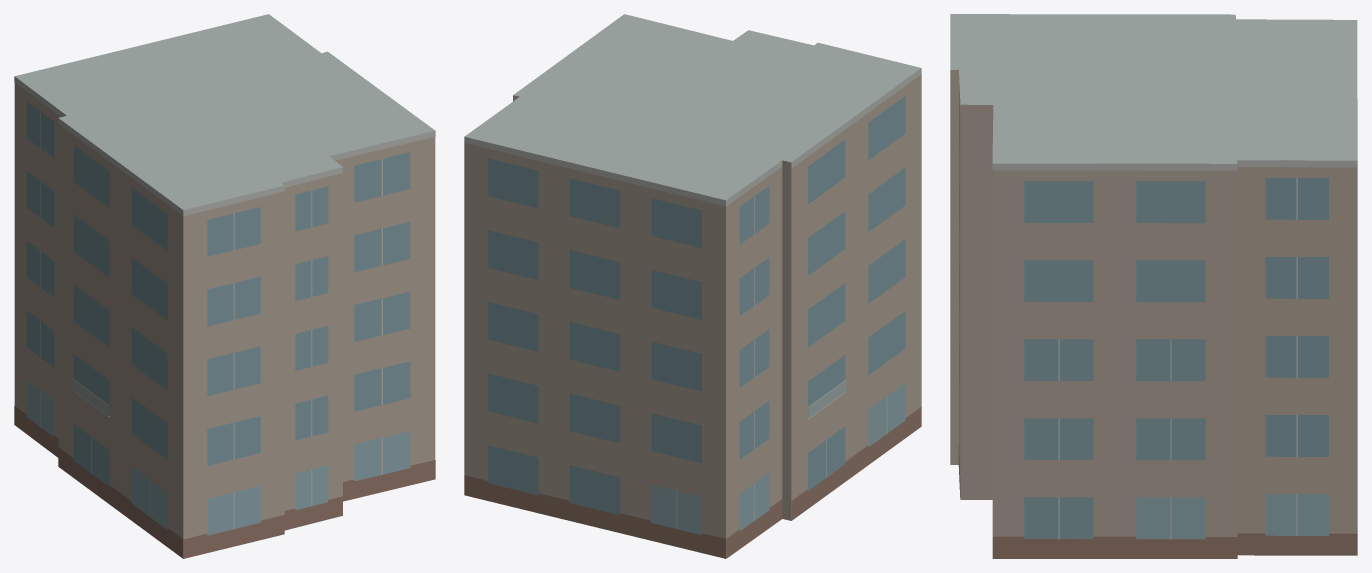
Rendered from survey-upis-33004867.glb.
The picture shows the model from 3 angles, left to right: view 1: azimuth 30°, elevation 25°; view 2: azimuth 150°, elevation 25°; view 3: azimuth 270°, elevation 25°; orthographic projection. The views are drawn at different scales.
Visible parts, largest first — view 1: survey-upis-33004867.tmp; view 2: survey-upis-33004867.tmp; view 3: survey-upis-33004867.tmp.
Part boxes in pixels (<box>): survey-upis-33004867.tmp: <box>14,14,435,558</box>; survey-upis-33004867.tmp: <box>464,14,921,558</box>; survey-upis-33004867.tmp: <box>950,14,1357,558</box>.
Size of the model in its own units: 11.65 by 14.3 by 13.38.
